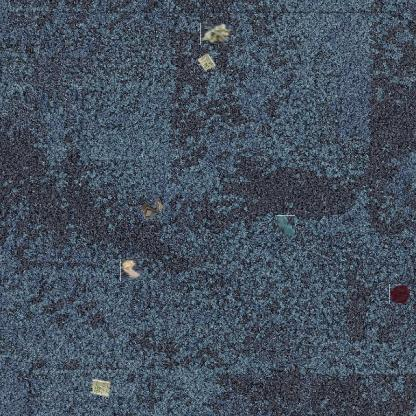dirty: (200, 22, 231, 44), (137, 197, 163, 221), (89, 377, 113, 399), (194, 50, 216, 72), (120, 260, 141, 281)
liquid: (390, 284, 410, 305), (277, 216, 296, 236)
